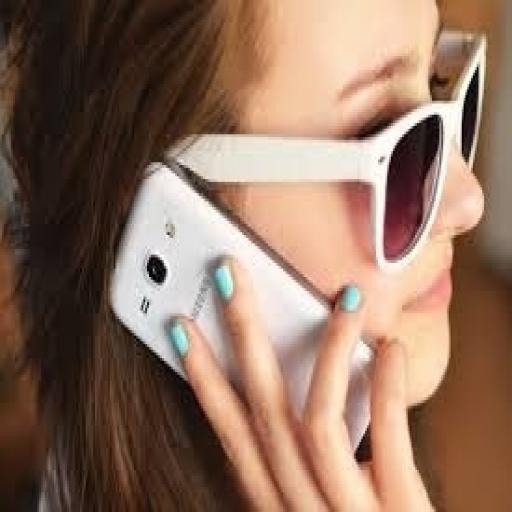texting: (0, 0, 493, 509)
